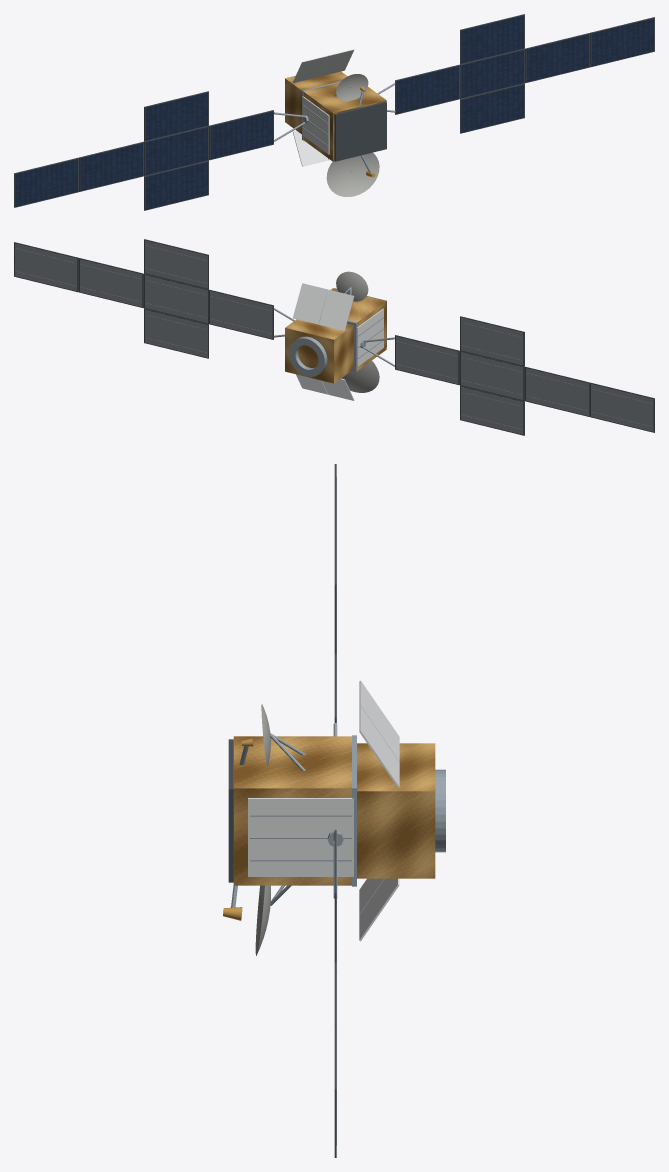
File: spacebus-4000c1-cross.glb
3 renders of one model, top to bottom at view 1: azimuth 30°, elevation 25°; view 2: azimuth 150°, elevation 25°; view 3: azimuth 270°, elevation 25°, orthographic. The views are drawn at different scales.
Visible parts, largest first — view 1: Solar cell panel (×12), Earth-facing deck, Communications reflector (×2), Solar panel frame (×7), Deployed radiator leaf (×3), Payload module, Service module, Radiator face; view 2: Rear array substrate (×12), Service module, Deployed radiator leaf (×4), Communications reflector (×2), Radiator face, Payload module, Launch adapter ring; view 3: Service module, Payload module, Radiator face, Deployed radiator leaf (×3).
Part boxes in pixels (x1,y1,x2,y2): Solar cell panel (×12): [15, 15, 653, 209]; Earth-facing deck: [334, 101, 386, 161]; Communications reflector (×2): [326, 74, 379, 196]; Solar panel frame (×7): [14, 14, 654, 207]; Deployed radiator leaf (×3): [292, 49, 354, 166]; Payload module: [303, 83, 386, 161]; Service module: [285, 71, 347, 134]; Radiator face: [302, 96, 329, 154]; Rear array substrate (×12): [15, 240, 653, 434]; Service module: [285, 318, 353, 383]; Deployed radiator leaf (×4): [293, 283, 354, 400]; Communications reflector (×2): [336, 271, 379, 392]; Radiator face: [357, 308, 383, 366]; Payload module: [323, 288, 386, 370]; Launch adapter ring: [289, 336, 327, 376]; Service module: [357, 743, 435, 878]; Payload module: [233, 736, 351, 885]; Radiator face: [248, 798, 353, 876]; Deployed radiator leaf (×3): [359, 680, 399, 941].
Bounding box in the file's own units: 29.97 × 5.45 × 4.52.
8 materials, 2 textured.
